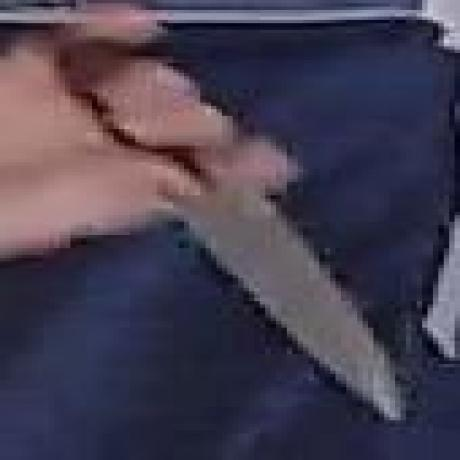1: (0, 10, 298, 268)
weapon: (65, 28, 411, 416)
